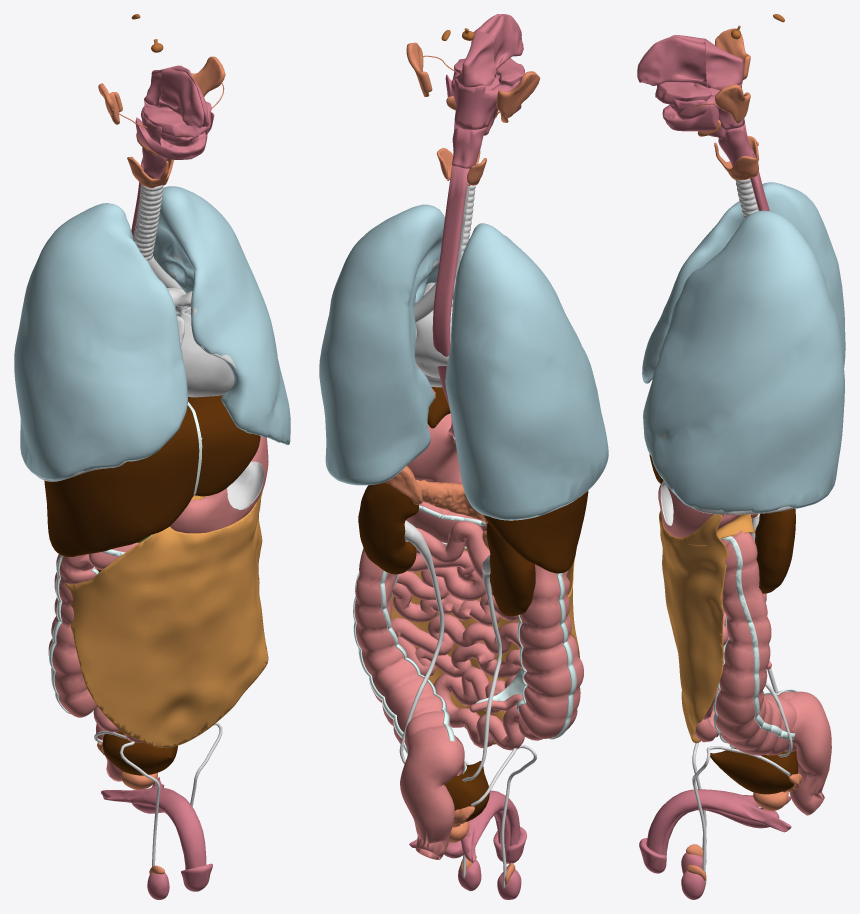
The model's file is organs.glb.
3 renders of one model, left to right at view 1: azimuth 30°, elevation 25°; view 2: azimuth 150°, elevation 25°; view 3: azimuth 270°, elevation 25°, orthographic. The views are drawn at different scales.
Parts seen in each view (by area): view 1: Pleura, Greater omentum, Liver, Ascending colon, Corpus cavernosum of penis, Stomach, Right ventricle, Gingiva, Mucosa of nasal cavity, Urinary bladder, Trachea, Mucosa of stomach (+5 smaller); view 2: Pleura, Jejunum, Ascending colon, Descending colon, Sigmoid colon, Liver, Kidney L, Oesophagus, Kidney R, Stomach, Oropharynx, Greater omentum (+21 smaller); view 3: Pleura, Greater omentum, Descending colon, Sigmoid colon, Corpus cavernosum of penis, Mucosa of nasal cavity, Kidney L, Urinary bladder, Gingiva, Mesocolic taenia, Nasopharynx, Stomach (+13 smaller).
Part boxes in pixels (x1=…): Pleura: x1=14, y1=186, x2=290, y2=480; Greater omentum: x1=65, y1=493, x2=268, y2=747; Liver: x1=44, y1=395, x2=260, y2=556; Ascending colon: x1=48, y1=554, x2=97, y2=717; Corpus cavernosum of penis: x1=101, y1=777, x2=206, y2=869; Stomach: x1=170, y1=436, x2=268, y2=533; Right ventricle: x1=179, y1=306, x2=234, y2=397; Gingiva: x1=135, y1=101, x2=211, y2=159; Mucosa of nasal cavity: x1=159, y1=65, x2=209, y2=128; Urinary bladder: x1=102, y1=731, x2=177, y2=775; Trachea: x1=133, y1=184, x2=163, y2=260; Mucosa of stomach: x1=227, y1=461, x2=263, y2=509; Pleura: x1=319, y1=204, x2=608, y2=520; Jejunum: x1=391, y1=528, x2=542, y2=750; Ascending colon: x1=518, y1=564, x2=583, y2=738; Descending colon: x1=354, y1=548, x2=464, y2=775; Sigmoid colon: x1=400, y1=727, x2=464, y2=859; Liver: x1=427, y1=387, x2=588, y2=573; Kidney L: x1=358, y1=482, x2=418, y2=574; Oesophagus: x1=432, y1=165, x2=469, y2=437; Kidney R: x1=486, y1=522, x2=535, y2=616; Stomach: x1=407, y1=413, x2=462, y2=483; Oropharynx: x1=451, y1=71, x2=520, y2=129; Greater omentum: x1=391, y1=542, x2=579, y2=744; Pleura: x1=642, y1=182, x2=845, y2=513; Greater omentum: x1=659, y1=511, x2=728, y2=743; Descending colon: x1=715, y1=530, x2=796, y2=755; Sigmoid colon: x1=787, y1=691, x2=831, y2=815; Corpus cavernosum of penis: x1=646, y1=789, x2=791, y2=854; Mucosa of nasal cavity: x1=637, y1=35, x2=706, y2=86; Kidney L: x1=755, y1=508, x2=795, y2=593; Urinary bladder: x1=710, y1=748, x2=798, y2=794; Gingiva: x1=655, y1=82, x2=718, y2=131; Mesocolic taenia: x1=720, y1=536, x2=795, y2=739; Nasopharynx: x1=705, y1=39, x2=743, y2=89; Stomach: x1=658, y1=482, x2=740, y2=537.
Bounding box in the file's own units: 0.2633 × 0.8931 × 0.1926.
